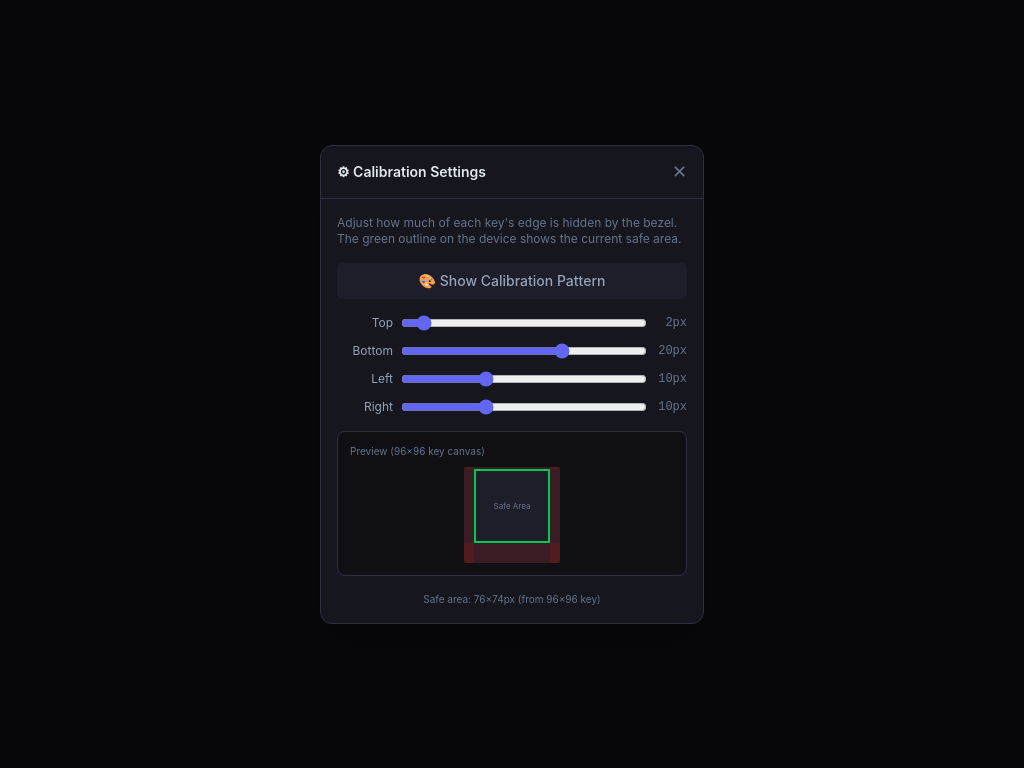
it: CalibrationPanel › interactions › should toggle calibration pattern on button click
What coordinates should you click on to do the following:
click the button "🎨 Show Calibration Pattern"
I would click on:
 (512, 280)
Its box is [337,262,687,298].
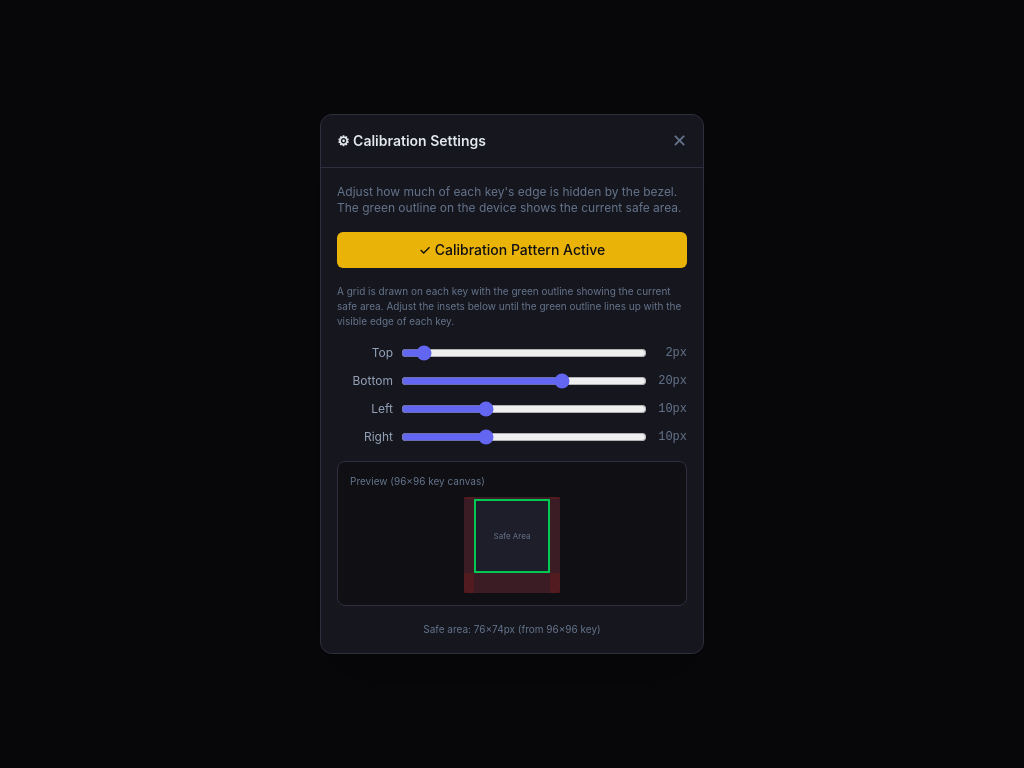
Now the button "✓ Calibration Pattern Active" is shown, box [337,232,687,268]
